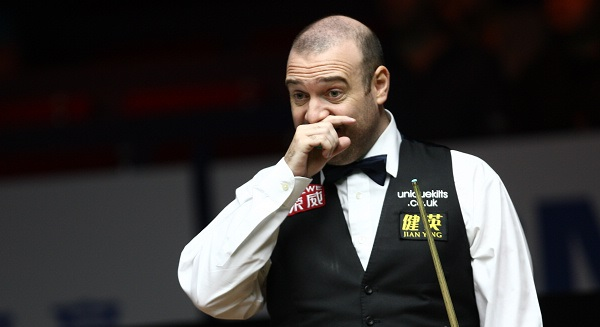face: (286, 51, 370, 160)
